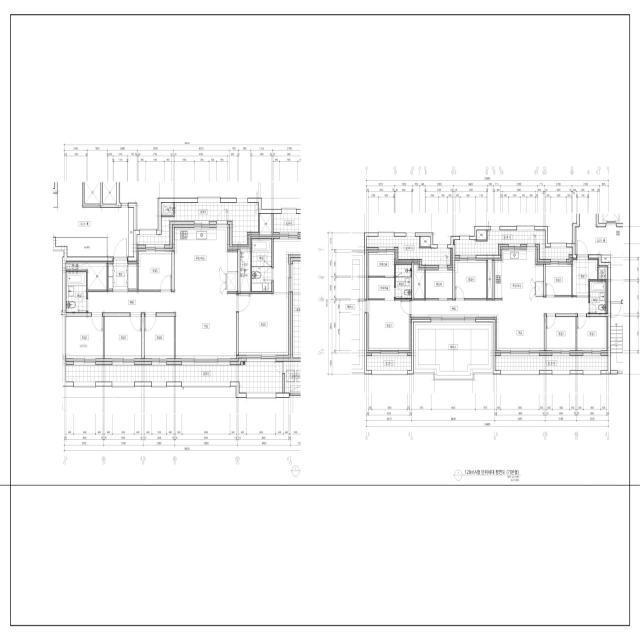space_balconi: (66, 362, 282, 393), (137, 203, 259, 245), (455, 230, 573, 259), (367, 236, 450, 265), (495, 356, 608, 371), (293, 261, 306, 358), (367, 356, 411, 371), (273, 214, 306, 232)
space_bedroom: (239, 239, 306, 358), (367, 300, 411, 353), (105, 316, 142, 361), (66, 317, 103, 361), (137, 248, 172, 290), (144, 316, 174, 361), (455, 258, 487, 298), (577, 317, 608, 353), (546, 317, 576, 353), (546, 262, 571, 295)
space_dressroom: (367, 250, 396, 276), (367, 278, 394, 299)
space_elevator: (599, 213, 623, 223)
space_elevator_hall: (53, 182, 128, 257), (575, 214, 623, 300)
space_front: (573, 256, 599, 297), (108, 259, 137, 290)
space_kitchen: (172, 225, 238, 292), (494, 247, 544, 300)
space_living_room: (88, 292, 237, 362), (411, 297, 589, 353)
space_other: (66, 262, 107, 290), (56, 238, 107, 257), (426, 268, 452, 298), (240, 247, 250, 292), (414, 264, 424, 299), (85, 182, 100, 204), (103, 182, 117, 204), (260, 214, 272, 237), (129, 208, 134, 257), (488, 258, 492, 298), (161, 203, 173, 215), (599, 266, 608, 279), (477, 230, 486, 240), (421, 237, 430, 247), (601, 255, 610, 262)
space_outdoor_room: (284, 362, 306, 393)
space_staircase: (611, 304, 623, 371)
space_toilet: (252, 239, 272, 291), (66, 272, 86, 312), (396, 264, 412, 298), (590, 281, 606, 313)
